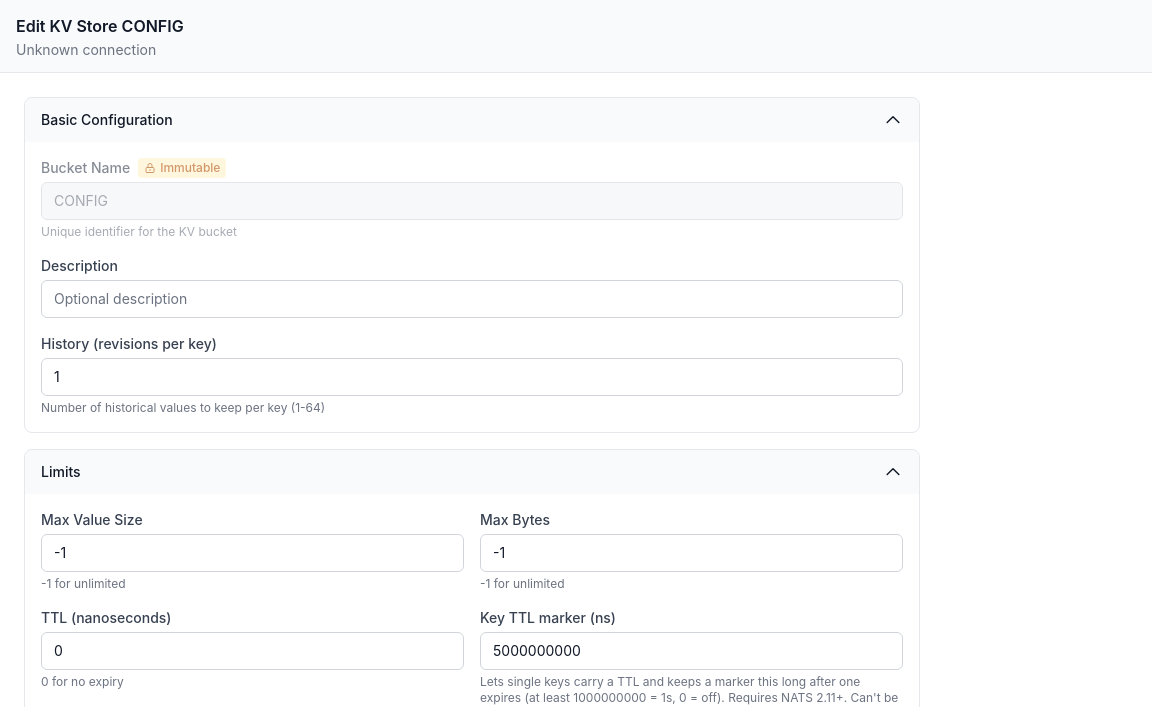
Test: EditKVPage › does not let a per-key TTL be turned off once the bucket allows it
Replace the text in the number field labelled "Key TTL marker (ns)" with "0" at (692, 651), box [480, 632, 903, 670]
(page scrolled)
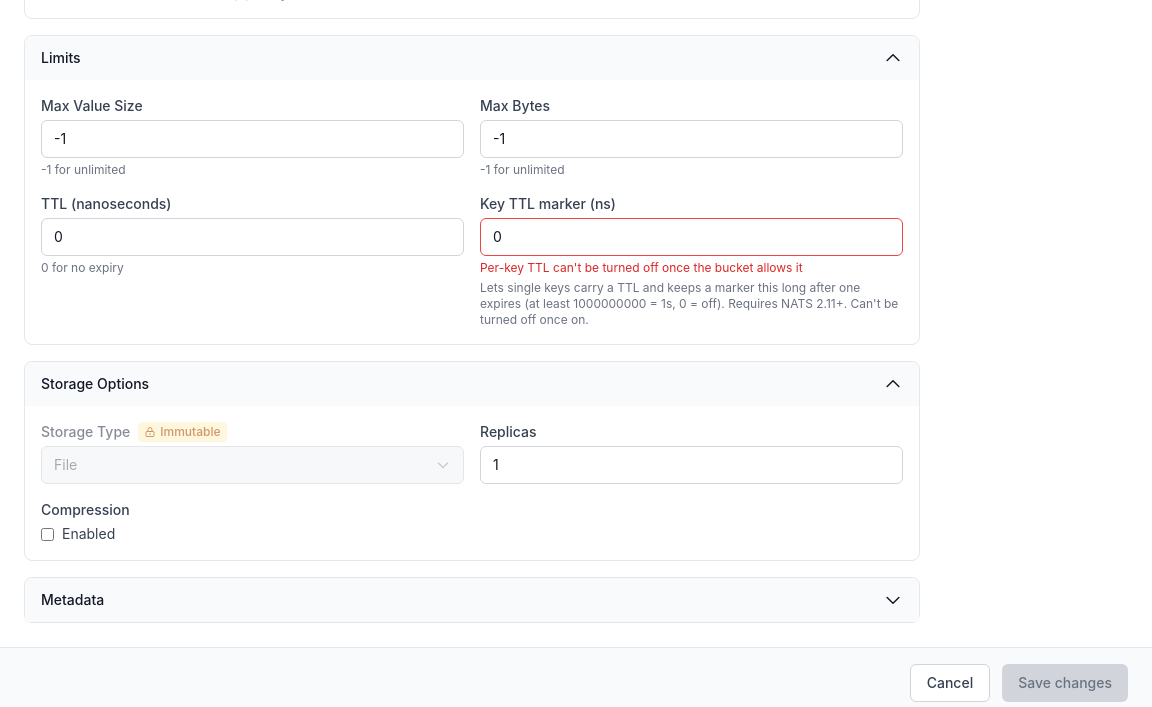
Check: the text "Per-key TTL can't be turned off once the bucket allows it" is shown, box [480, 260, 803, 275]
Check: the button "Save changes" is disabled, box [1002, 664, 1128, 702]
